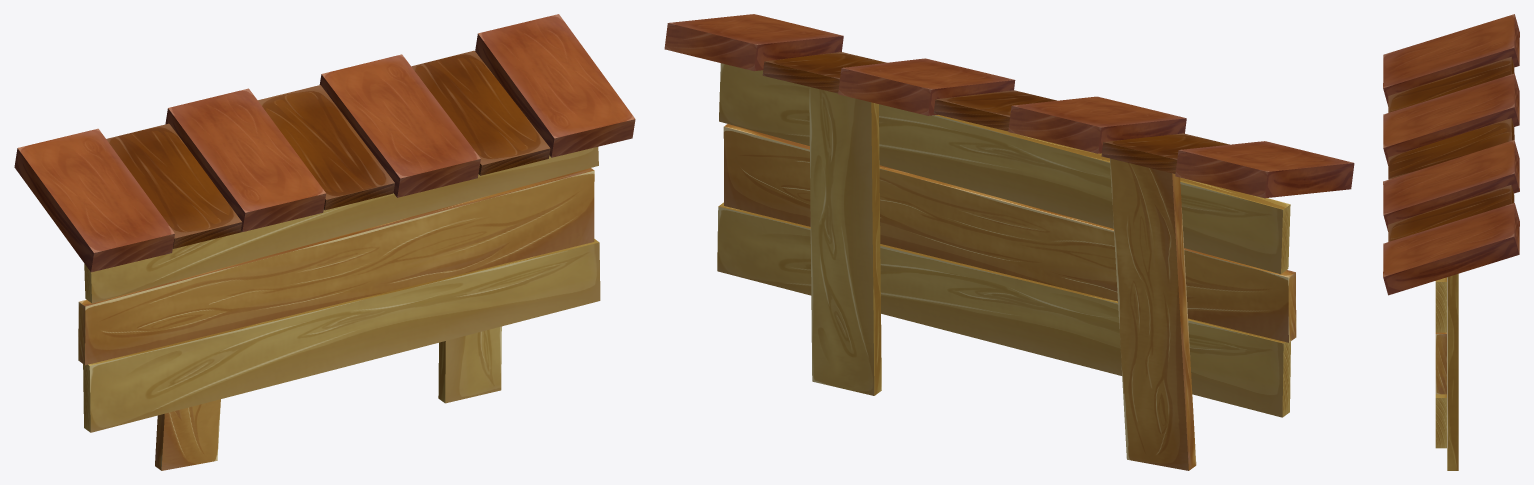
Rendered from board.fbx.
3 views of the same model, side by side, from view 1: azimuth 30°, elevation 25°; view 2: azimuth 150°, elevation 25°; view 3: azimuth 270°, elevation 25° (orthographic). The views are drawn at different scales.
Parts seen in each view (by area): view 1: board; view 2: board; view 3: board.
Part boxes in pixels (x1=…): board: x1=14, y1=14, x2=635, y2=470; board: x1=664, y1=14, x2=1354, y2=470; board: x1=1383, y1=14, x2=1519, y2=470.
Size of the model in its own units: 1935 by 1112 by 498.
1 material, 1 textured.
